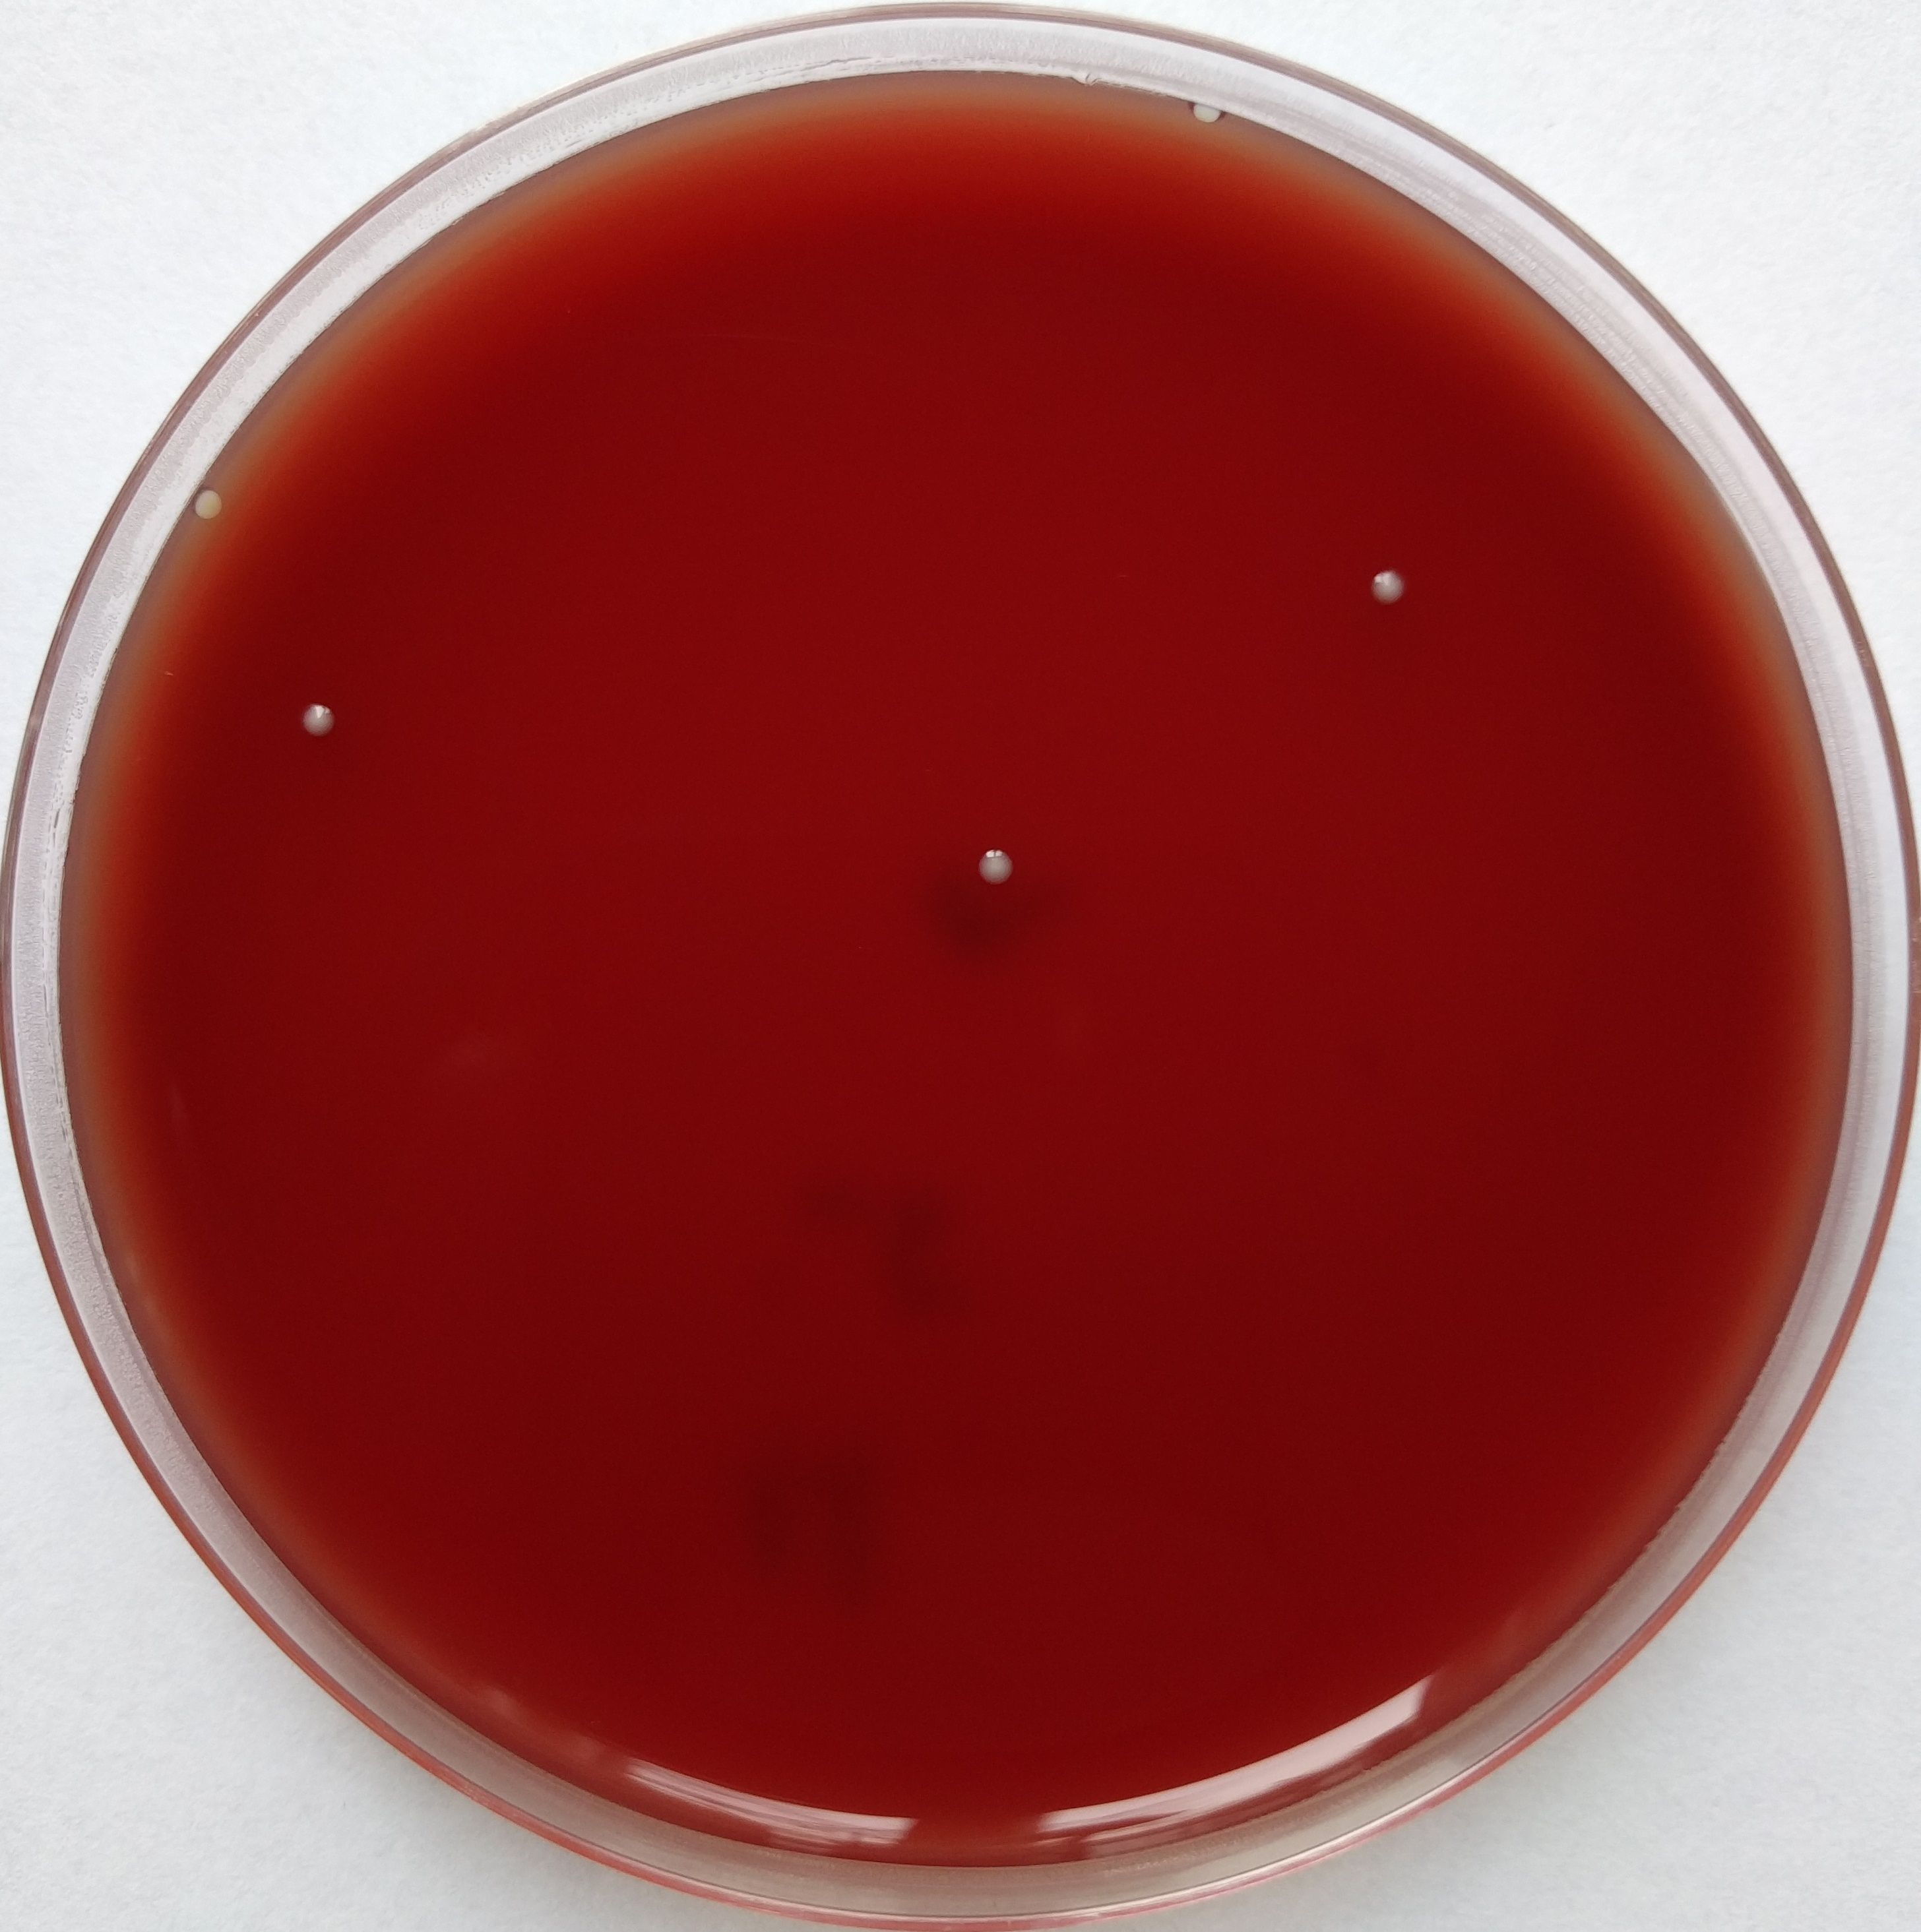sp24: (950, 829, 1034, 904), (181, 468, 236, 544), (1363, 547, 1421, 618), (281, 695, 343, 757), (1186, 91, 1235, 132)
